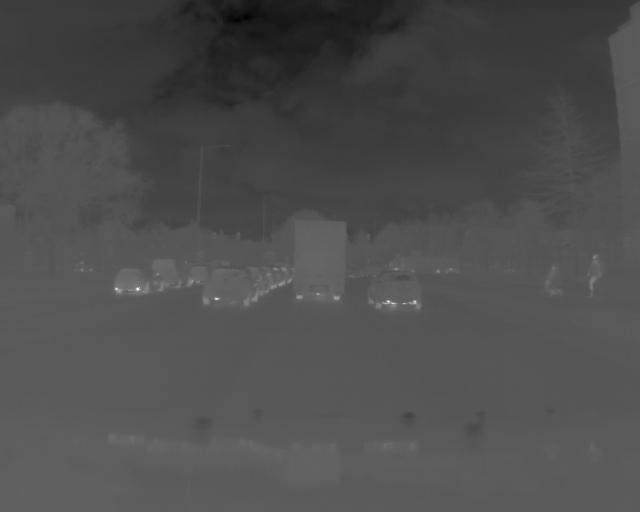car: (290, 214, 350, 310), (368, 267, 421, 313), (205, 264, 252, 310), (159, 254, 192, 287), (110, 269, 164, 289), (189, 267, 207, 284)
person: (544, 257, 564, 297), (589, 250, 599, 303)
